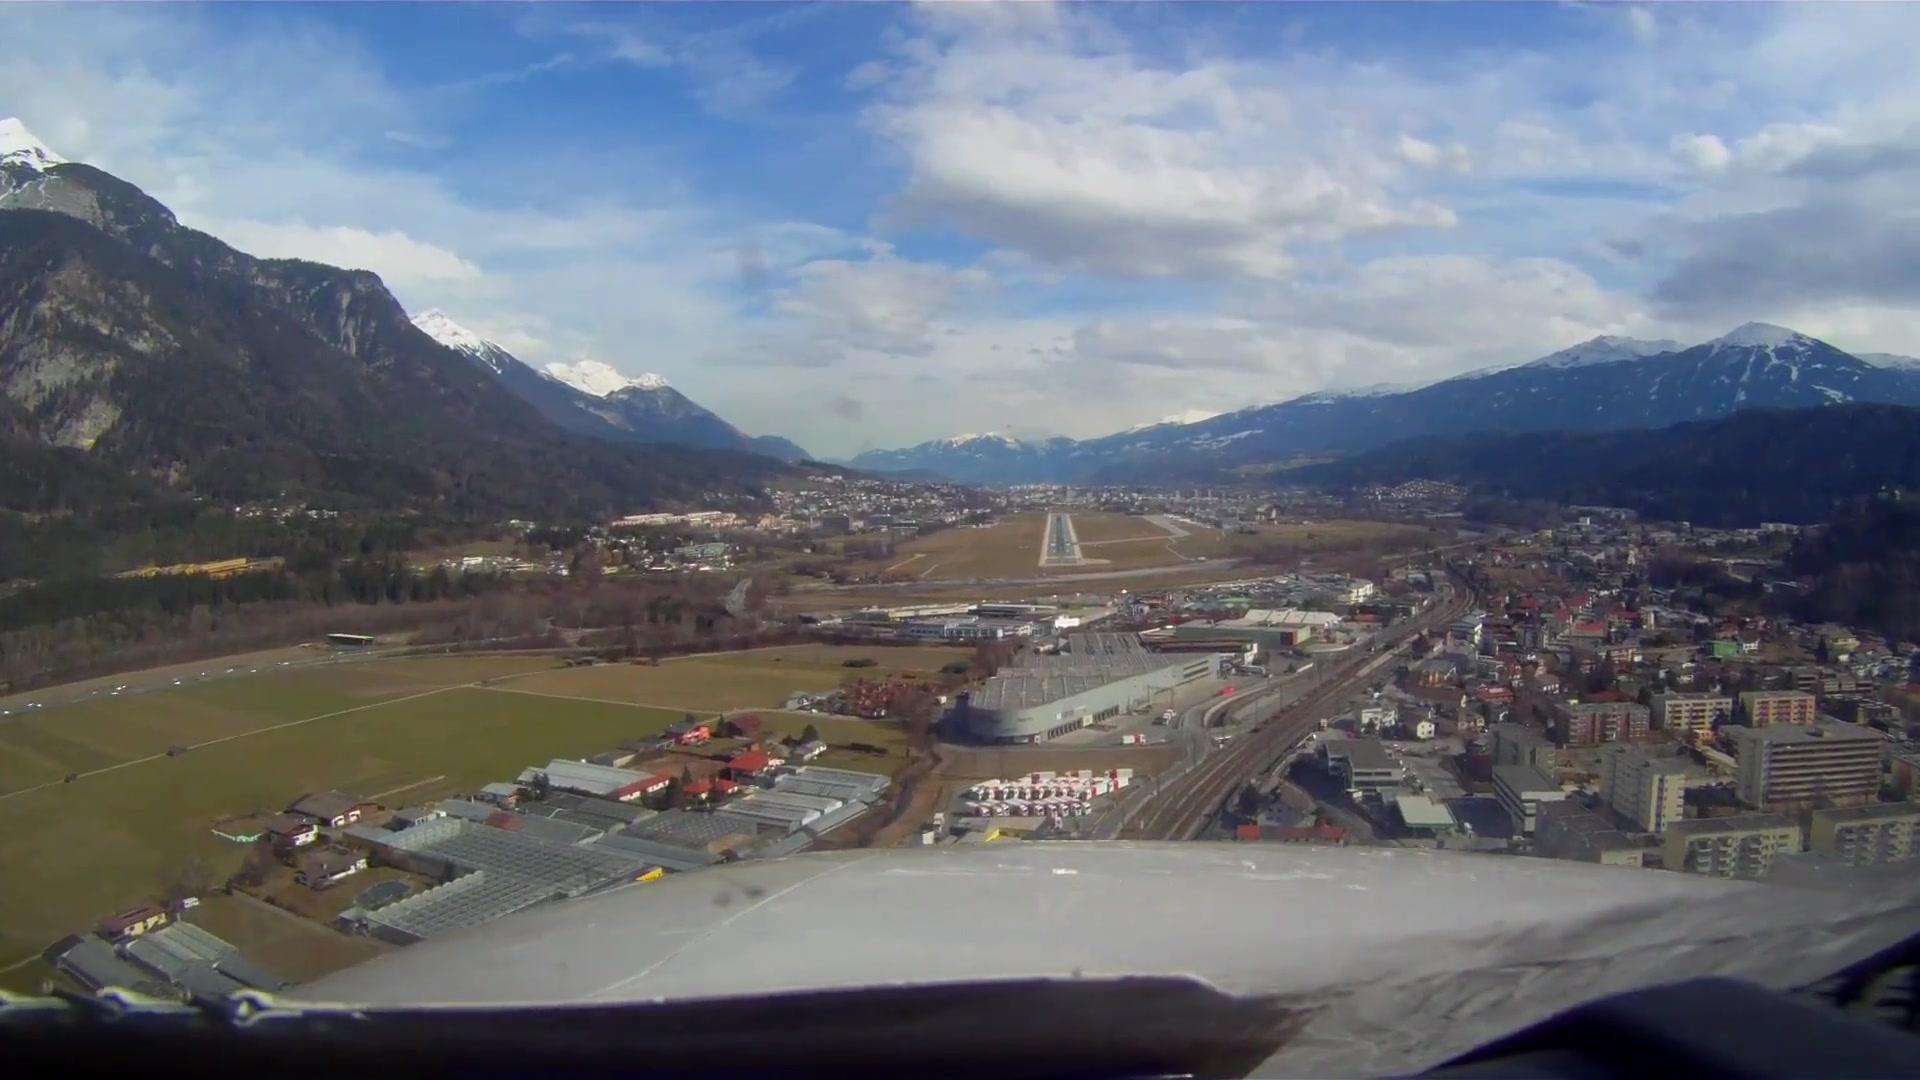entrance: (1044, 553, 1077, 560)
runway: (1043, 510, 1079, 563)
